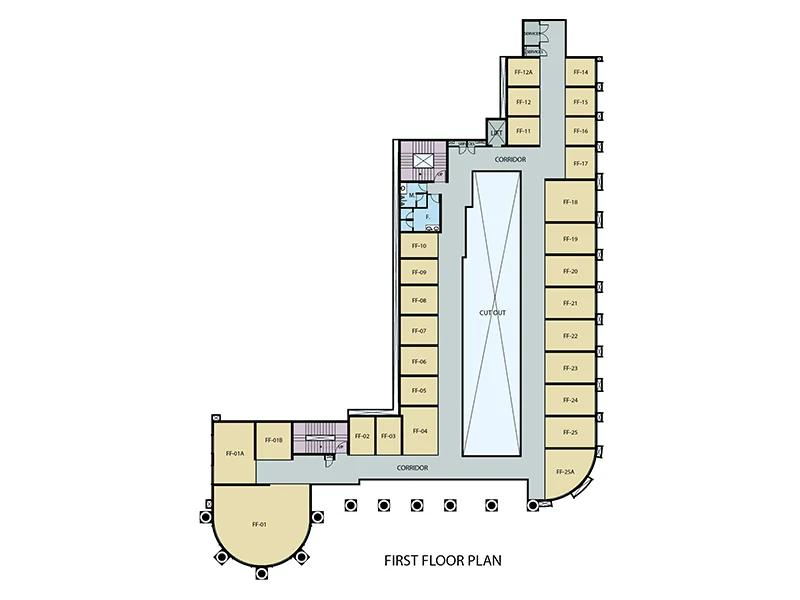room: (212, 484, 311, 569), (545, 449, 596, 502), (213, 422, 256, 484), (545, 179, 595, 222), (399, 140, 448, 182), (400, 406, 438, 455), (293, 422, 348, 454), (545, 287, 596, 320), (545, 352, 596, 384), (545, 384, 596, 416), (545, 416, 596, 448), (545, 319, 595, 351), (545, 223, 596, 254), (545, 255, 596, 286), (255, 422, 292, 460), (399, 314, 438, 345), (400, 285, 438, 315), (400, 346, 438, 375), (400, 376, 438, 405), (375, 416, 402, 455), (400, 258, 438, 285), (349, 416, 375, 455), (565, 146, 595, 179), (400, 232, 438, 258), (508, 116, 540, 146), (507, 87, 540, 116), (507, 58, 540, 86), (566, 87, 596, 117), (565, 58, 597, 86), (565, 116, 595, 145)
